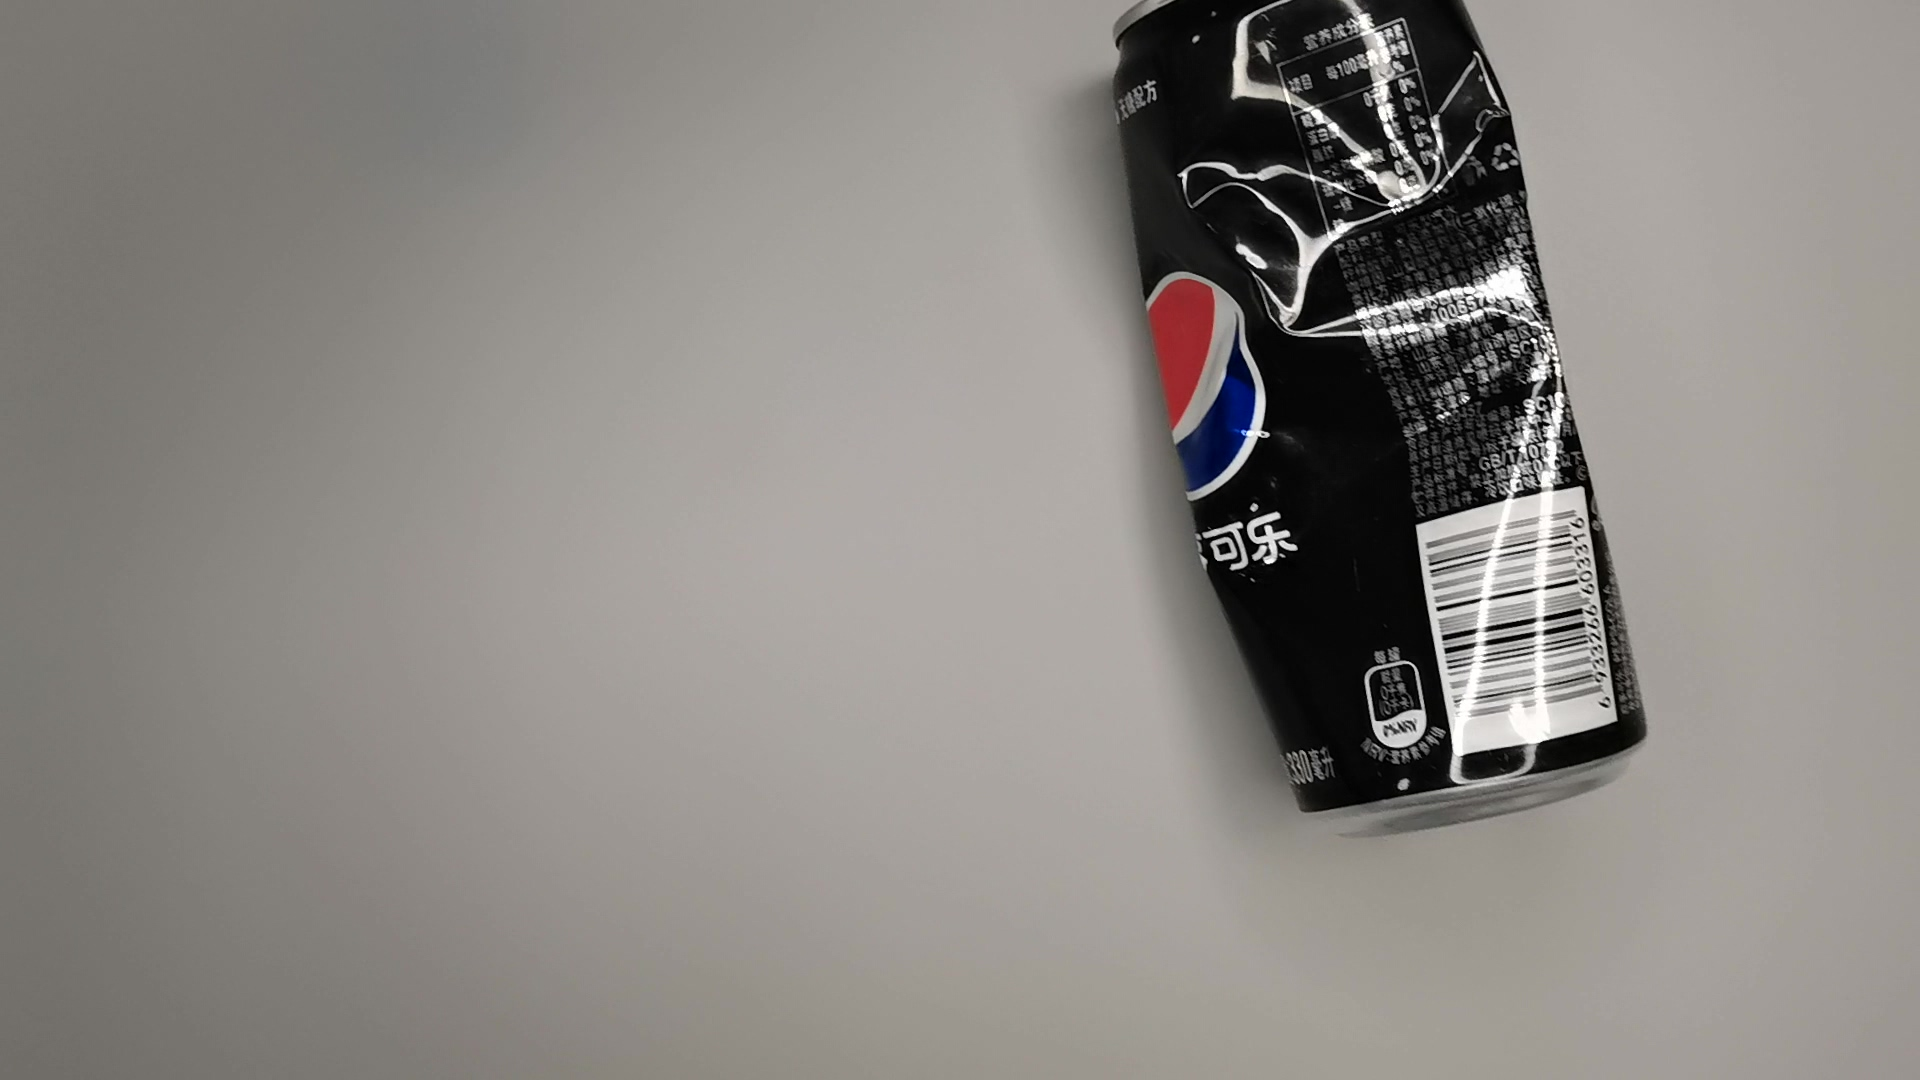can: (1112, 1, 1648, 856)
